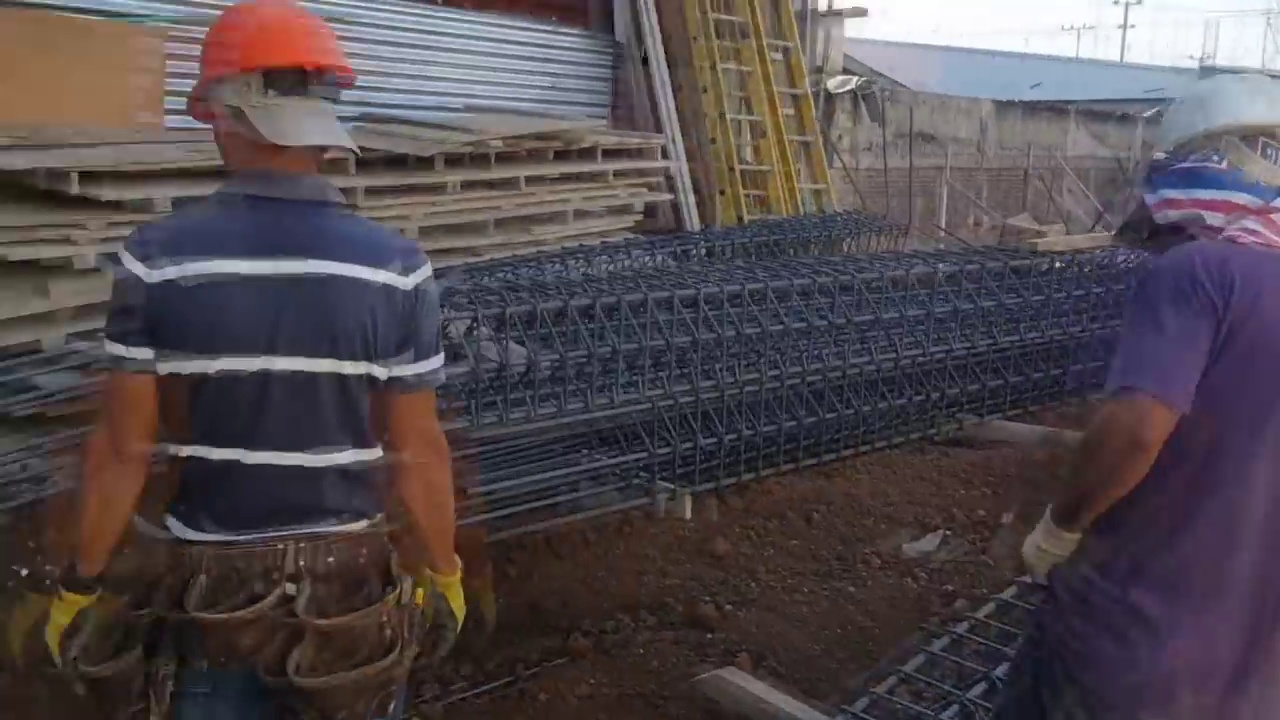helmet: (186, 0, 360, 126), (1153, 71, 1280, 155)
helmet-on: (184, 1, 362, 190), (1132, 74, 1280, 243)
person: (45, 1, 468, 718), (1023, 75, 1280, 718)
